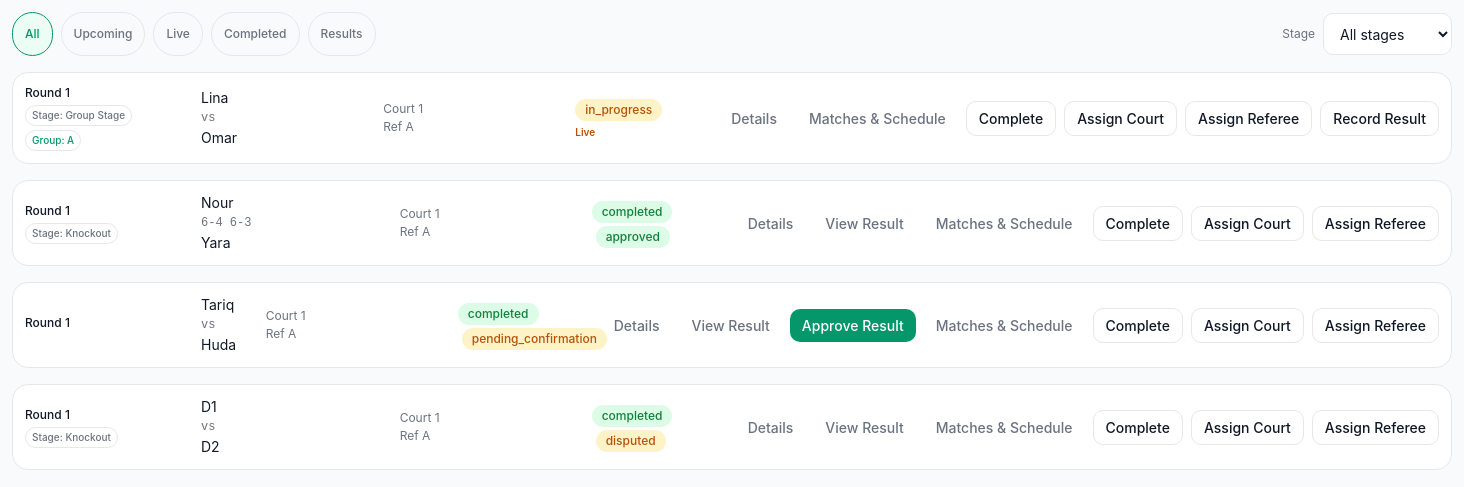
Test: Tournament Hub Results management (Step 3F) › 1+2. Results renders result matches with status chips; default filter = Needs Attention
This screenshot has width=1464, height=487.
Click the button "Results". click: [342, 34]
box: [308,12,376,56]
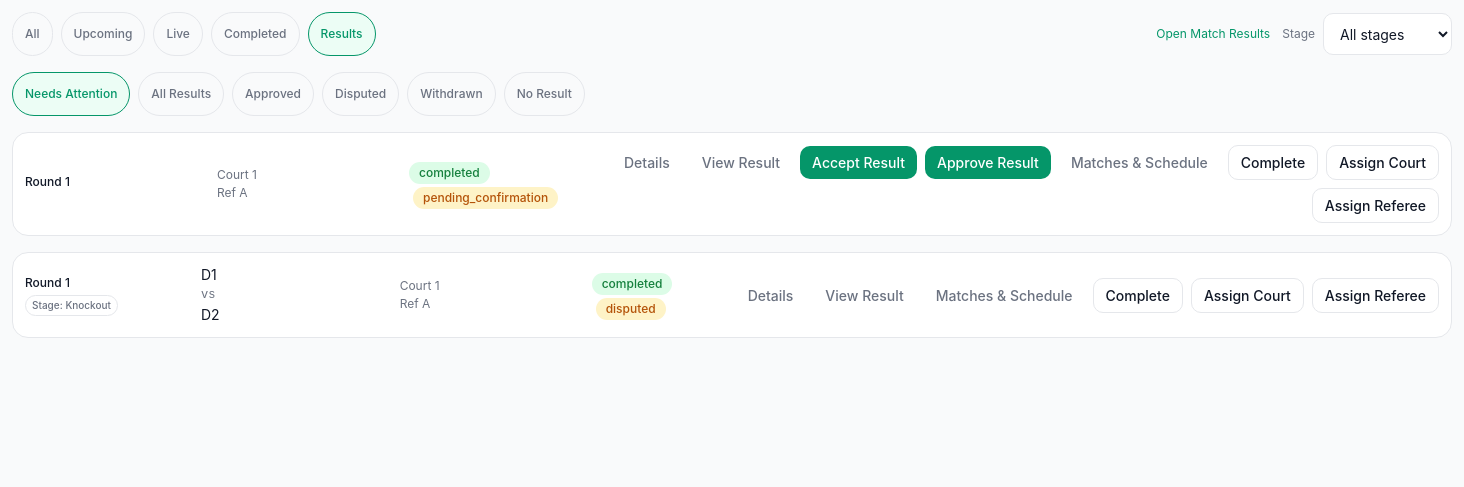
Expected: the text "D1" is shown, [201,266,217,283]
Now the text "Nour" is gone
